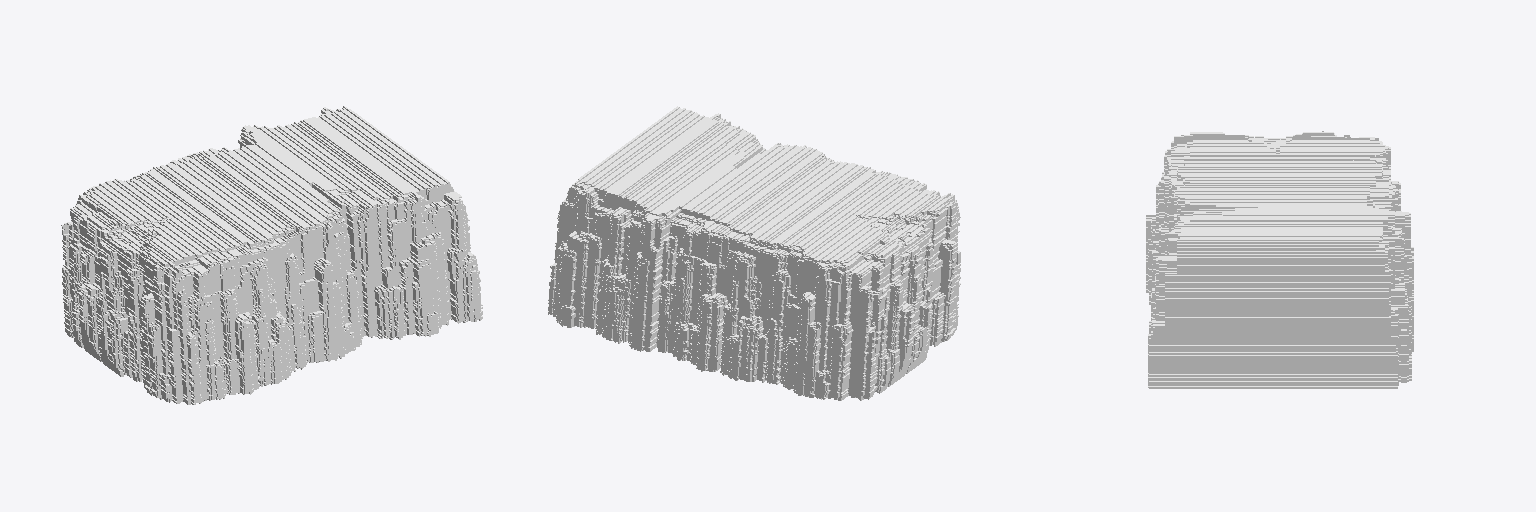
The model's file is forest1.4-178.obj.
3 views of the same model, side by side, from view 1: azimuth 30°, elevation 25°; view 2: azimuth 150°, elevation 25°; view 3: azimuth 270°, elevation 25° (orthographic).
Visible parts, largest first — view 1: object 1; view 2: object 1; view 3: object 1.
Boxes of the visible parts, x1,y1,x2,y2 form: object 1: [61, 106, 482, 404]; object 1: [548, 106, 960, 400]; object 1: [1146, 131, 1413, 388].
Bounding box in the file's own units: 25.6 × 11.7 × 18.4.